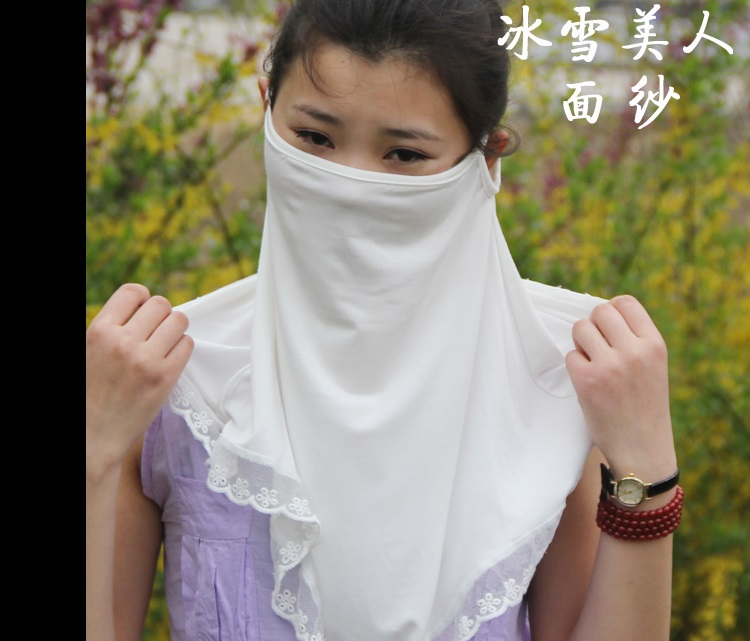face_mask: (262, 36, 472, 277)
